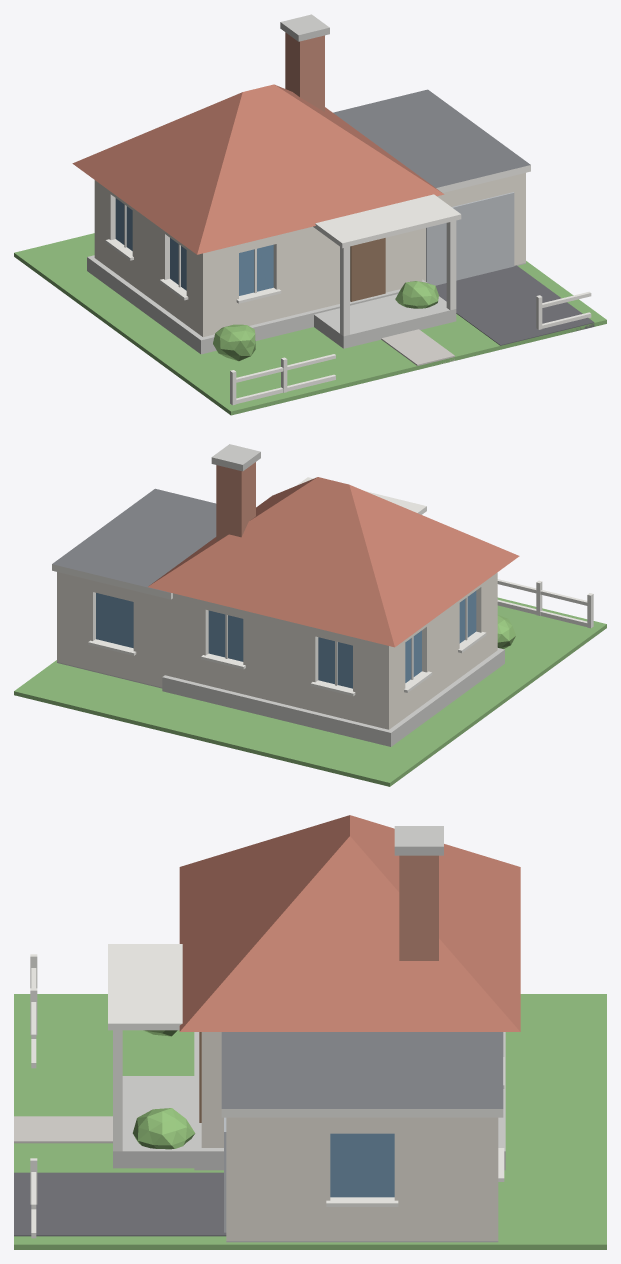
The picture shows the model from 3 angles, top to bottom: view 1: azimuth 30°, elevation 25°; view 2: azimuth 150°, elevation 25°; view 3: azimuth 270°, elevation 25°; orthographic projection. The views are drawn at different scales.
Visible parts, largest first — view 1: r_1_1_d; view 2: r_1_1_d; view 3: r_1_1_d.
Boxes of the visible parts, <box> form: r_1_1_d: <box>14,14,606,415</box>; r_1_1_d: <box>14,444,606,786</box>; r_1_1_d: <box>14,815,606,1249</box>.
Size of the model in its own units: 12.02 by 6.95 by 12.
